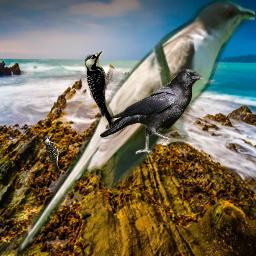Crow: (100, 68, 207, 155)
Cuckoo: (15, 0, 255, 255)
Woodpecker: (81, 48, 120, 135), (43, 135, 64, 177)
